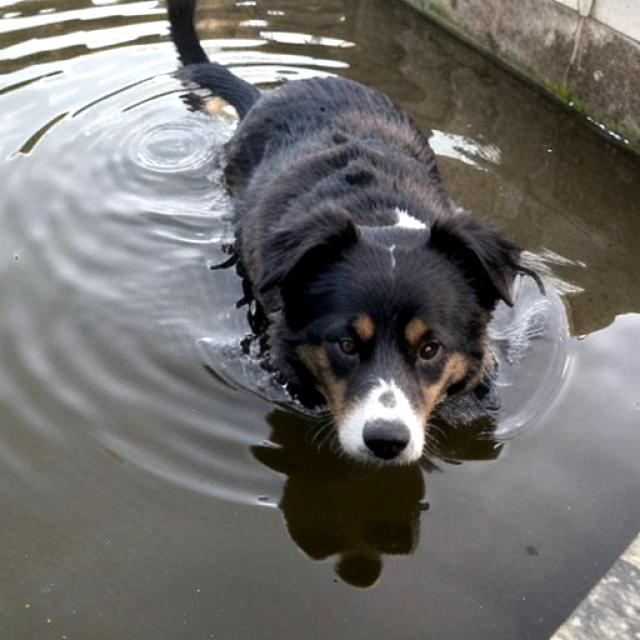dog: (167, 1, 558, 494)
